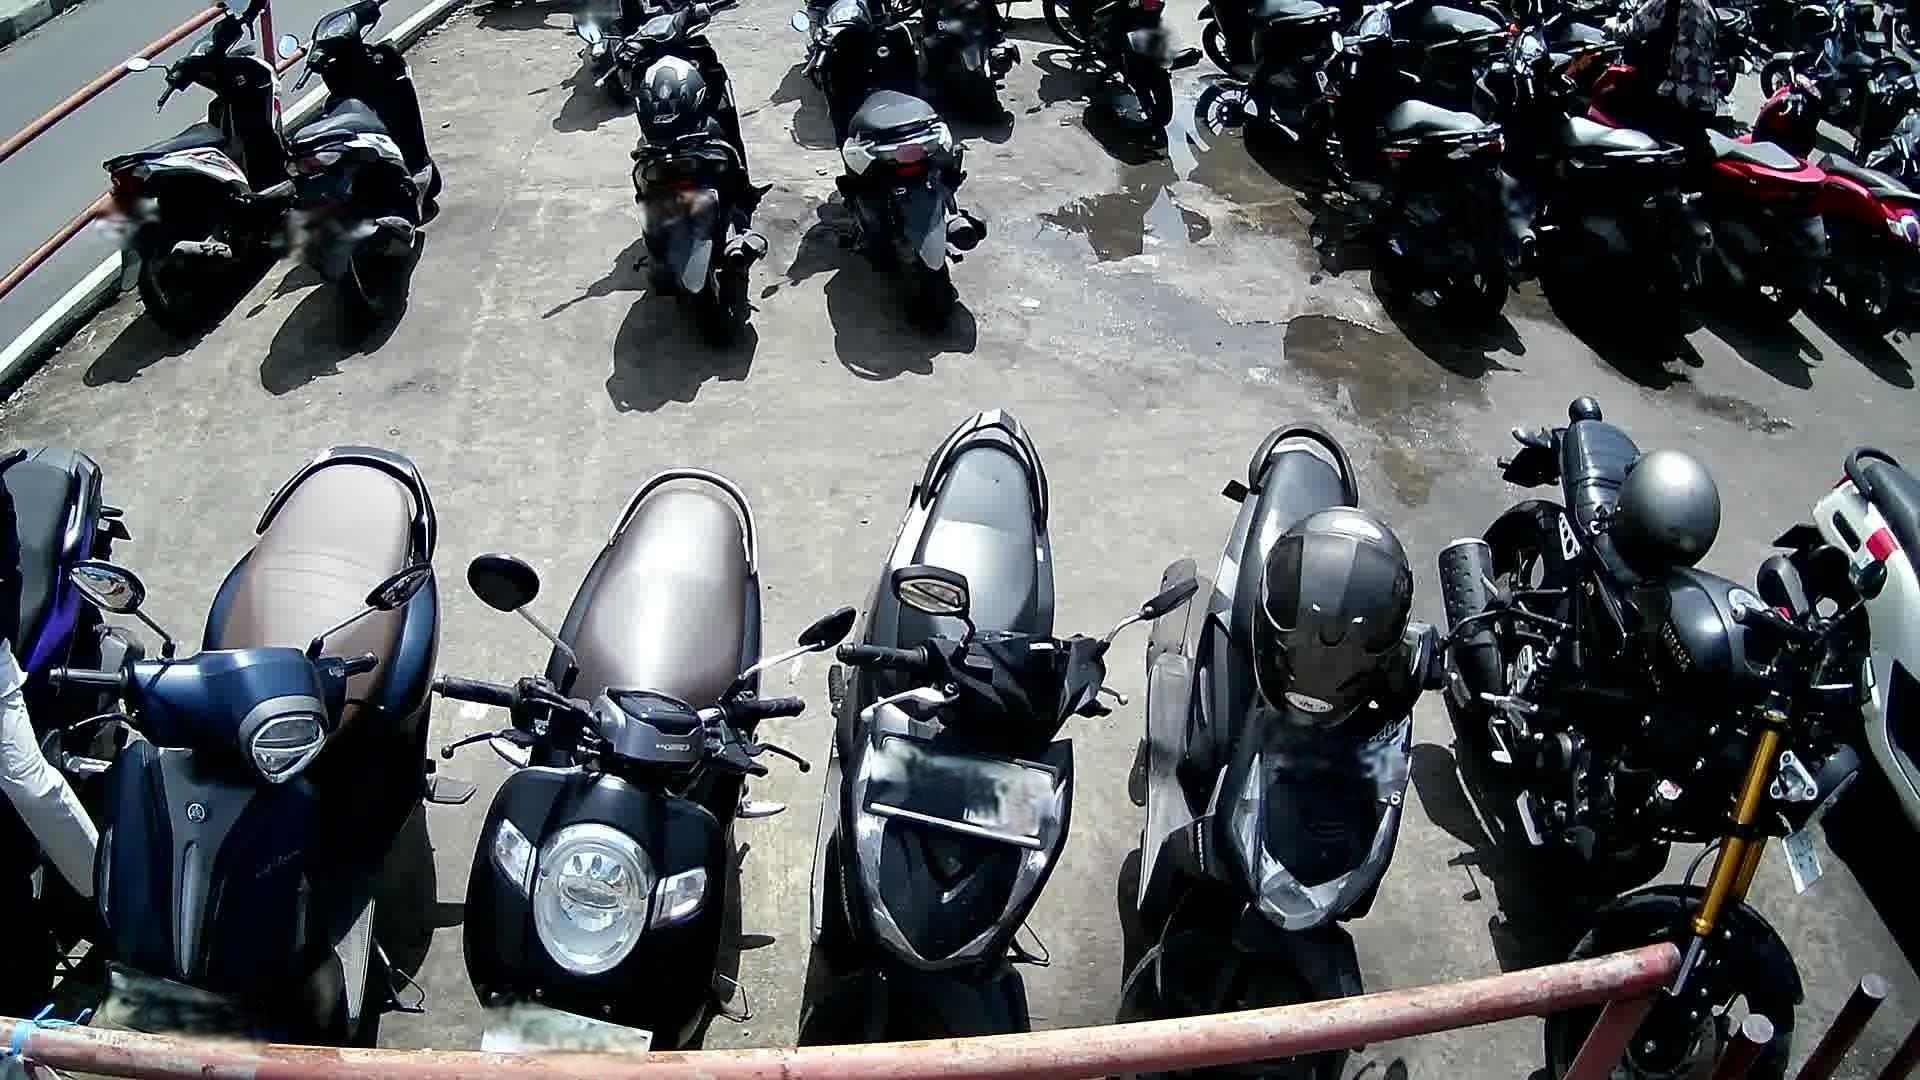motorcycle: (1441, 397, 1886, 1080), (53, 439, 473, 1052), (435, 468, 857, 1043), (804, 409, 1196, 1023), (1117, 419, 1513, 981), (1465, 11, 1717, 353), (0, 430, 135, 1009), (1311, 4, 1538, 335), (1756, 439, 1920, 887), (787, 0, 992, 328), (100, 0, 297, 340), (580, 0, 771, 348), (278, 0, 443, 334), (1742, 54, 1920, 335), (1704, 117, 1841, 340)
